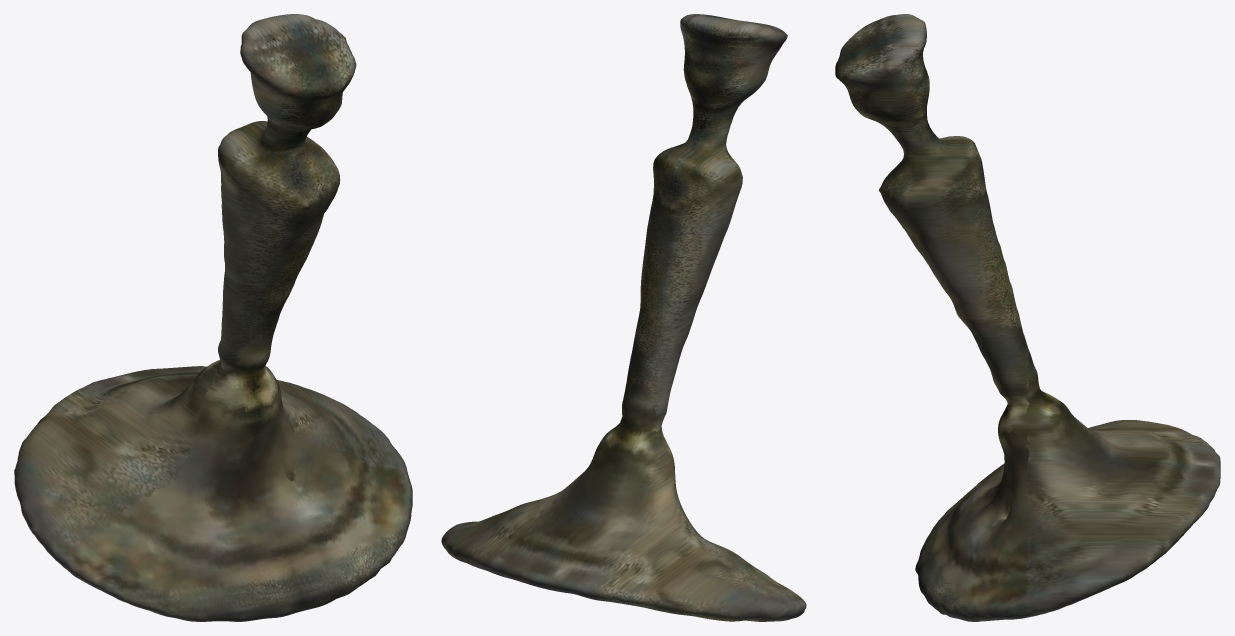
Rendered from kfl-2154.glb.
3 views of the same model, side by side, from view 1: azimuth 30°, elevation 25°; view 2: azimuth 150°, elevation 25°; view 3: azimuth 270°, elevation 25° (orthographic). The views are drawn at different scales.
Visible parts, largest first — view 1: geometry_0; view 2: geometry_0; view 3: geometry_0.
Part boxes in pixels (bbox=[...]): geometry_0: bbox=[14, 14, 412, 621]; geometry_0: bbox=[441, 14, 806, 621]; geometry_0: bbox=[835, 14, 1220, 621].
Size of the model in its own units: 0.6165 by 0.9964 by 0.636.
Materials: 1 (1 with a texture image).
